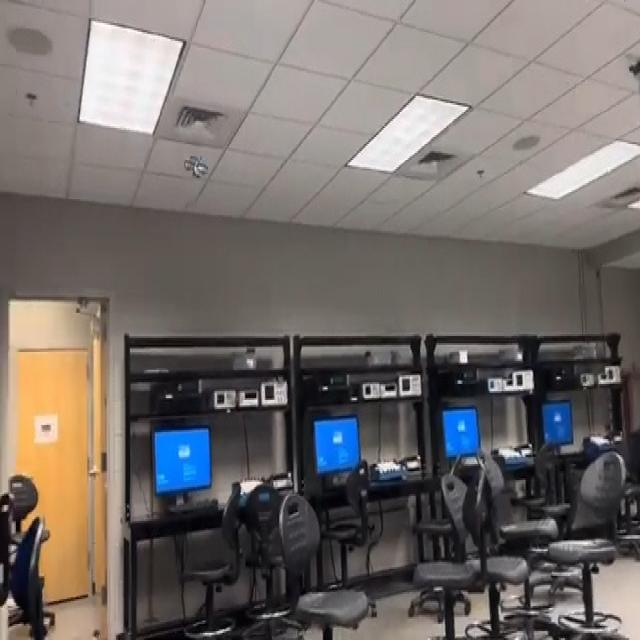drone: (177, 136, 213, 190)
